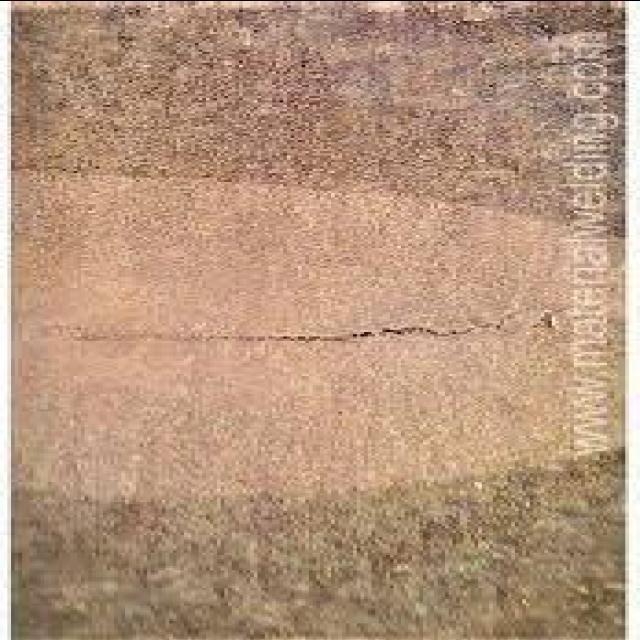Crack: (60, 306, 530, 346)
